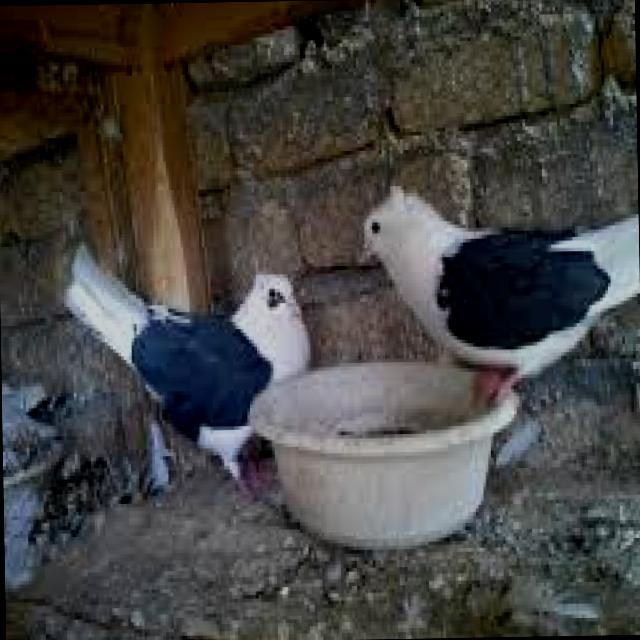bird: (354, 167, 640, 423), (57, 228, 314, 504)
